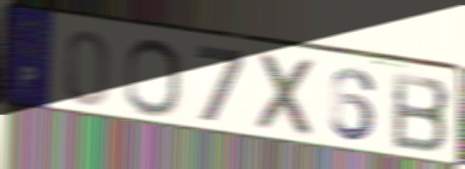0: (64, 28, 111, 109)
6: (330, 66, 377, 143)
7: (193, 42, 249, 127)
B: (390, 69, 454, 156)
O: (123, 37, 183, 120)
X: (256, 50, 320, 141)
